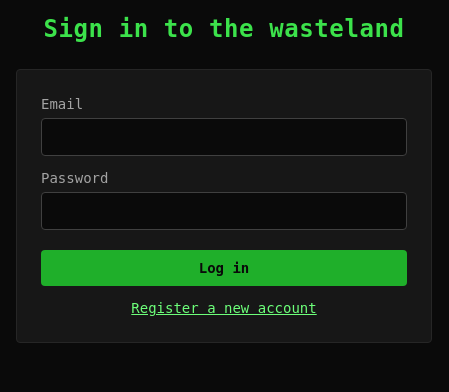
Test: LoginPage › shows an error message on failed login
Type "a@b.c" into the field labelled "Email" at (224, 137), box left=41, top=118, right=407, bottom=156
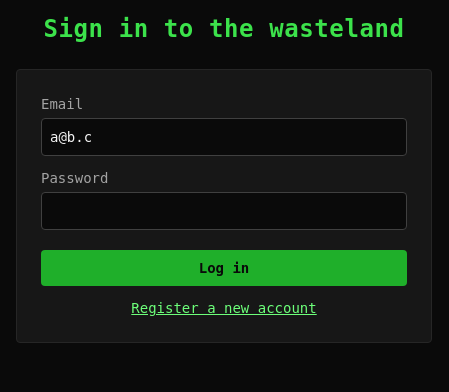
Type "wrongpass" into the password field labelled "Password" at (224, 211), box left=41, top=192, right=407, bottom=230
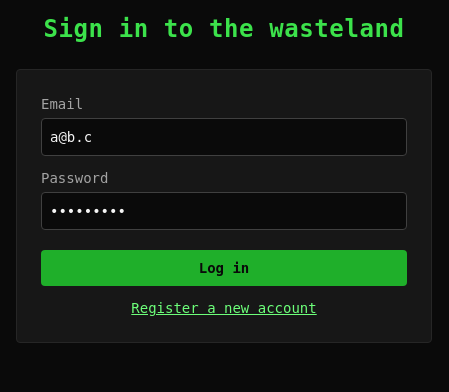
Click the button "Log in" at (224, 268), box left=41, top=250, right=407, bottom=286
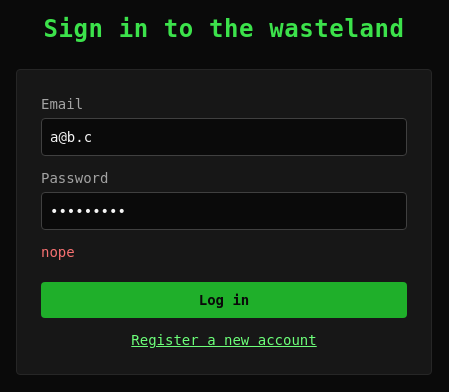
Expected: the message reads "nope", left=41, top=244, right=75, bottom=260
